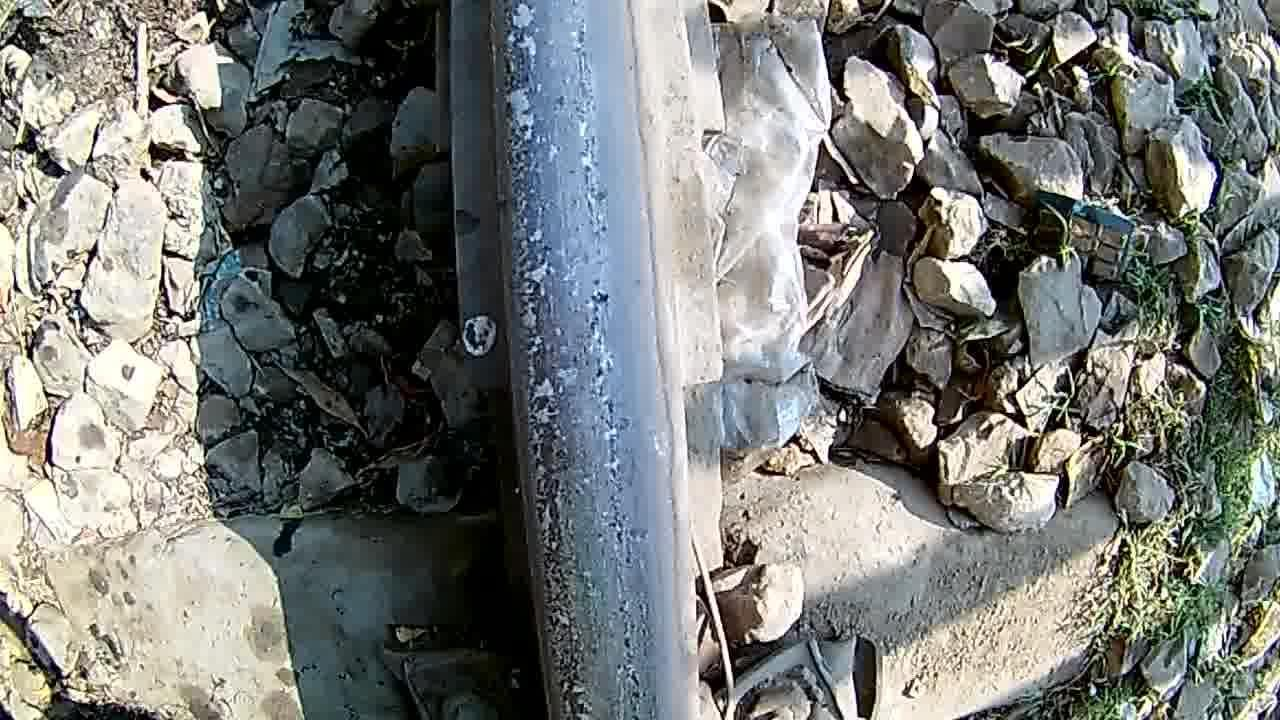crack: (473, 0, 692, 720)
